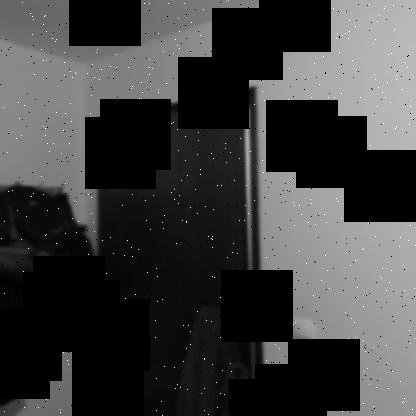Porte: (95, 86, 266, 416)
